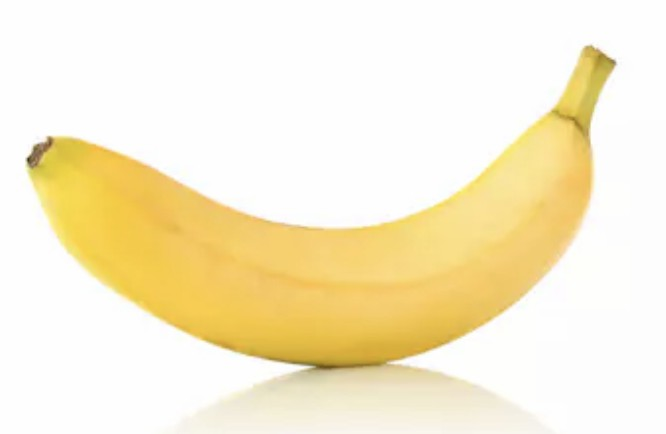fresh_banana: (30, 47, 617, 367)
